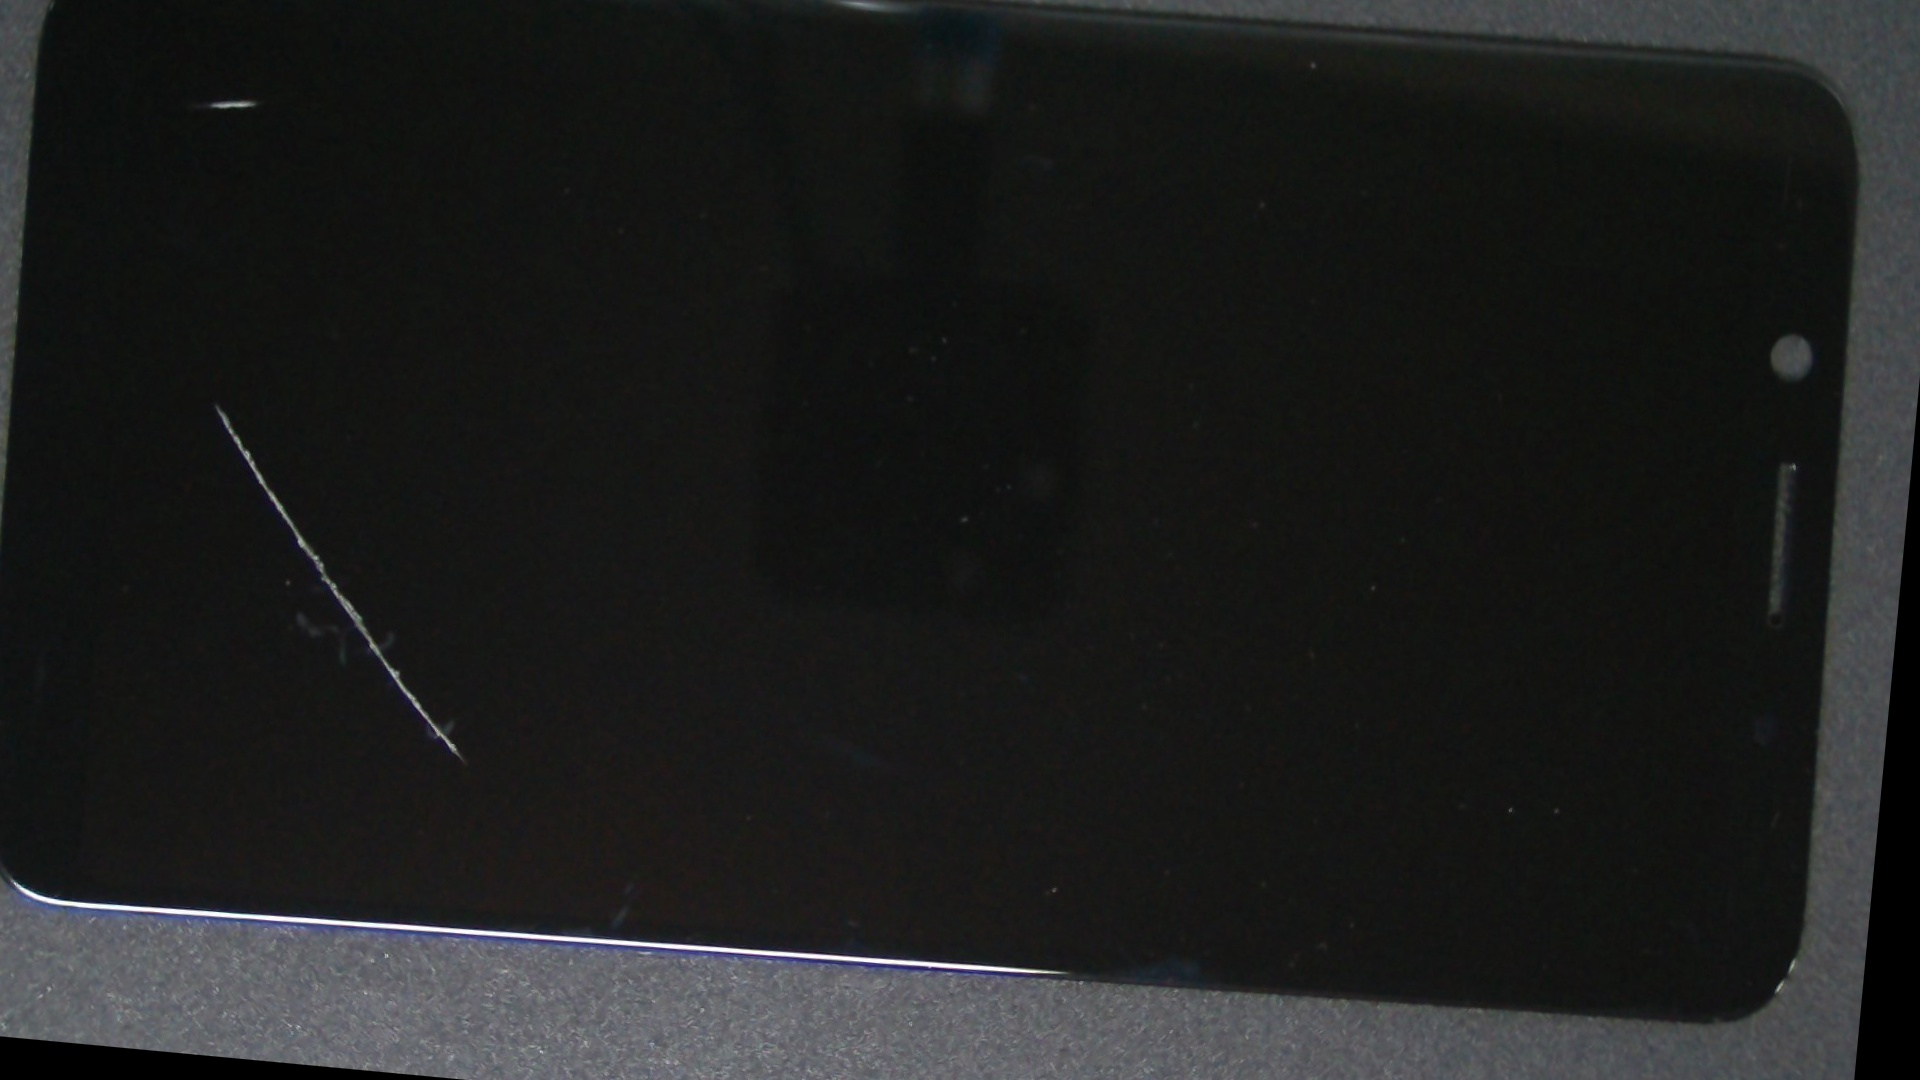oil: (50, 94, 382, 712), (91, 0, 389, 256)
